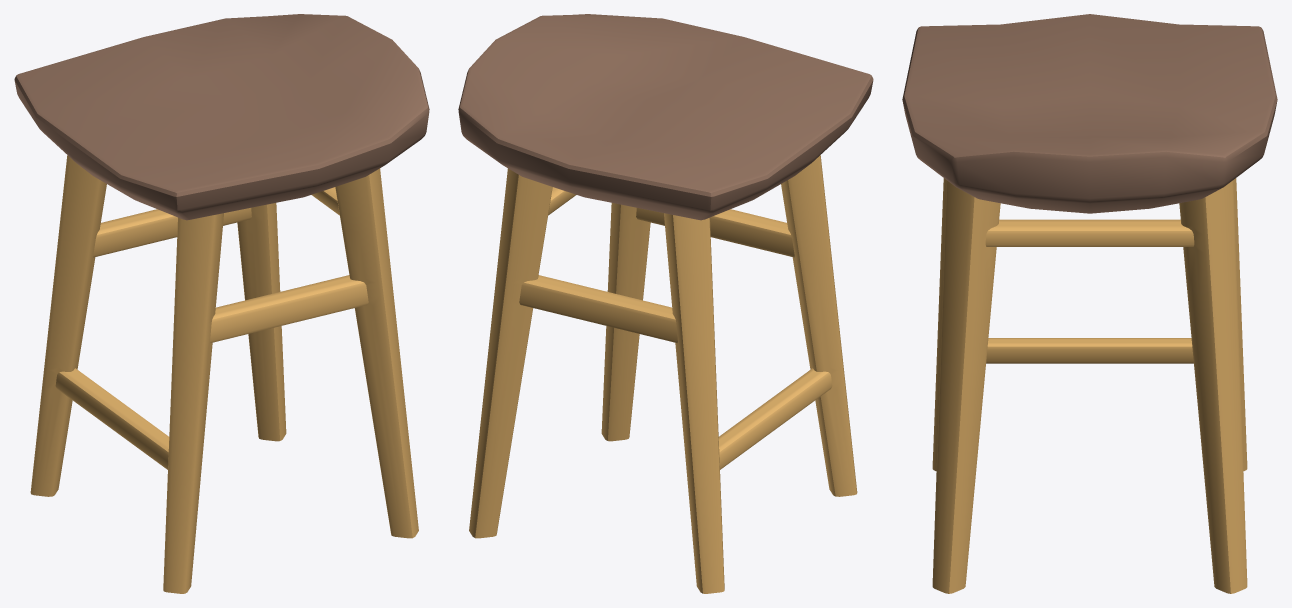
The model's file is MP_BarStool.fbx.
The picture shows the model from 3 angles, left to right: view 1: azimuth 30°, elevation 25°; view 2: azimuth 150°, elevation 25°; view 3: azimuth 270°, elevation 25°; orthographic projection. The views are drawn at different scales.
Visible parts, largest first — view 1: Barstool_Cushion, Barstool_Legs; view 2: Barstool_Cushion, Barstool_Legs; view 3: Barstool_Cushion, Barstool_Legs.
Boxes of the visible parts, bbox=[...] form: Barstool_Cushion: bbox=[14, 14, 429, 220]; Barstool_Legs: bbox=[30, 155, 418, 593]; Barstool_Cushion: bbox=[458, 14, 873, 220]; Barstool_Legs: bbox=[469, 155, 857, 593]; Barstool_Cushion: bbox=[902, 14, 1277, 213]; Barstool_Legs: bbox=[932, 178, 1247, 593].
Bounding box in the file's own units: 40.92 × 52.21 × 38.72.
